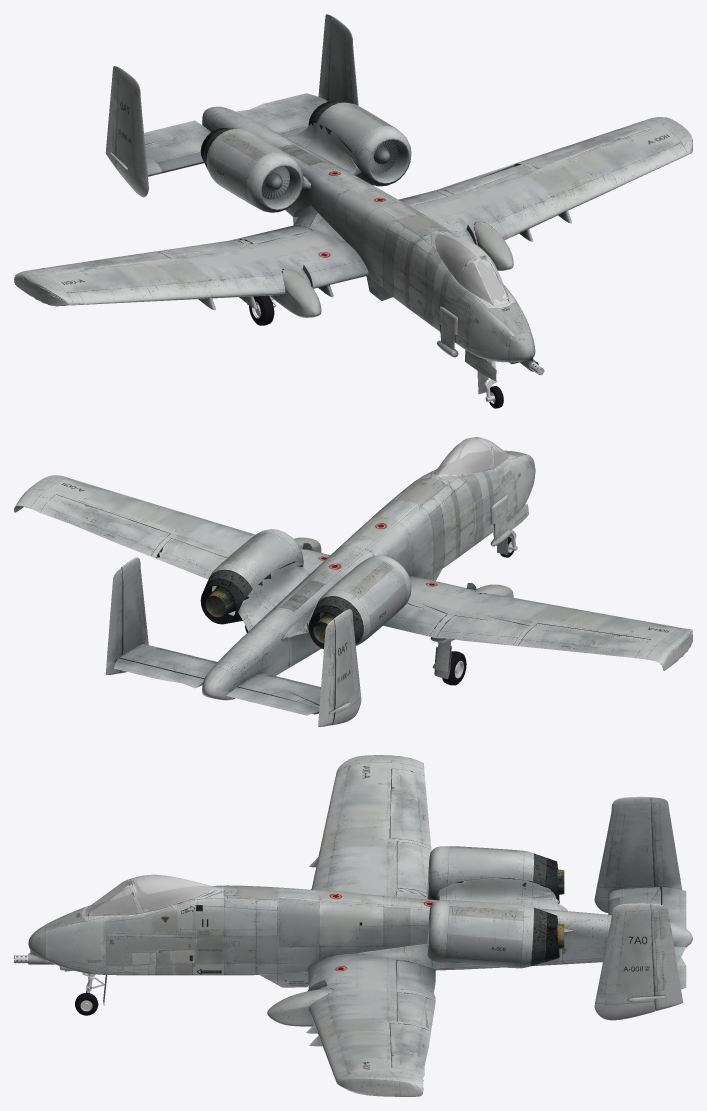
The model's file is a_10_thunderbolt.glb.
The picture shows the model from 3 angles, top to bottom: view 1: azimuth 30°, elevation 25°; view 2: azimuth 150°, elevation 25°; view 3: azimuth 270°, elevation 25°; orthographic projection. The views are drawn at different scales.
Visible parts, largest first — view 1: Object_5, Object_3, Object_4; view 2: Object_5, Object_3, Object_4; view 3: Object_5, Object_3, Object_4.
Boxes of the visible parts, x1=… form: Object_5: x1=14, y1=14, x2=692, y2=394; Object_3: x1=436, y1=233, x2=507, y2=302; Object_4: x1=249, y1=235, x2=503, y2=408; Object_5: x1=14, y1=437, x2=692, y2=726; Object_3: x1=436, y1=437, x2=507, y2=474; Object_4: x1=245, y1=451, x2=513, y2=685; Object_5: x1=14, y1=755, x2=692, y2=1096; Object_3: x1=88, y1=874, x2=214, y2=914; Object_4: x1=75, y1=888, x2=212, y2=1015.
Size of the model in its own units: 2.5 by 0.5997 by 2.2.
Materials: 5 (2 with a texture image).
